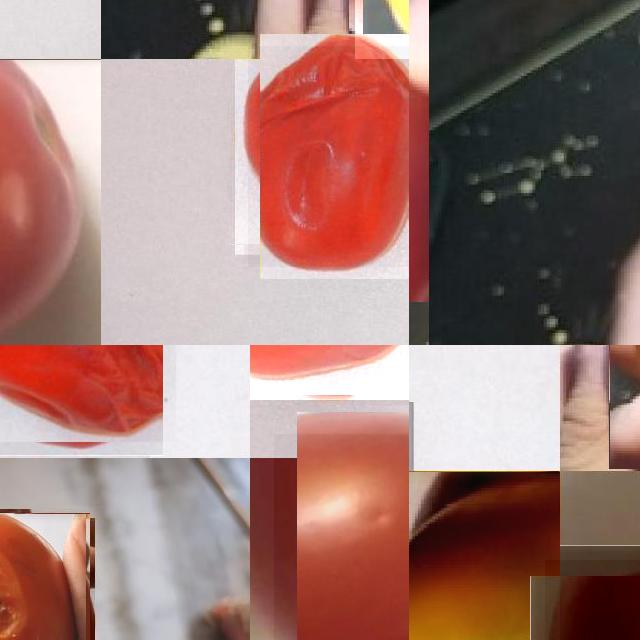Fresh Tomato: (0, 59, 101, 345), (273, 434, 409, 640)
Rotten Tomato: (247, 46, 409, 266), (409, 471, 560, 640), (0, 345, 163, 455), (0, 513, 90, 640), (250, 345, 409, 400)
